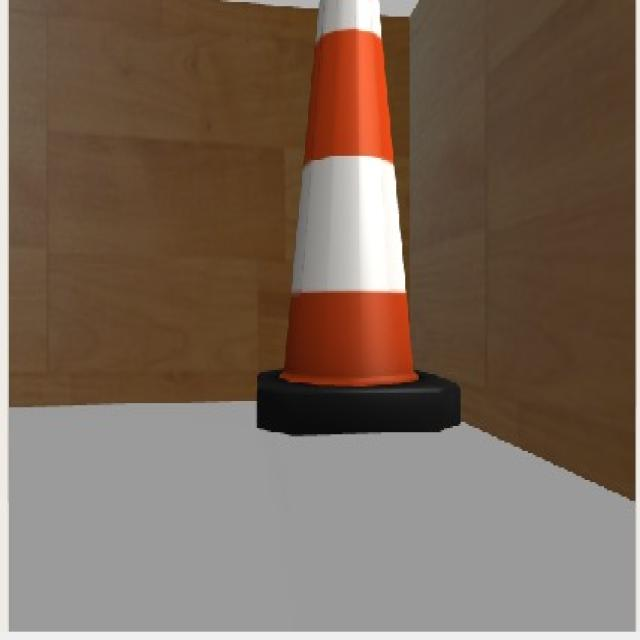Traffic Cone: (255, 0, 460, 436)
